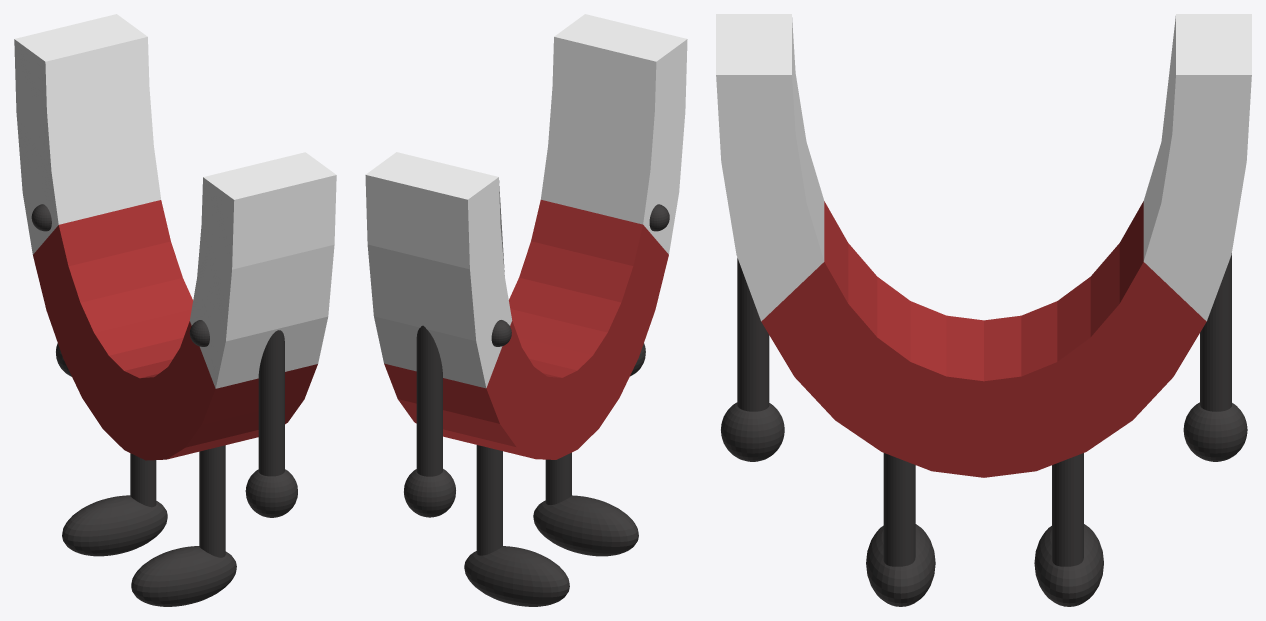
Rendered from Iman.fbx.
The picture shows the model from 3 angles, left to right: view 1: azimuth 30°, elevation 25°; view 2: azimuth 150°, elevation 25°; view 3: azimuth 270°, elevation 25°; orthographic projection. The views are drawn at different scales.
Parts seen in each view (by area): view 1: Cylinder; view 2: Cylinder; view 3: Cylinder.
Boxes of the visible parts, x1,y1,x2,y2 form: Cylinder: (14,14,336,606); Cylinder: (365,14,687,606); Cylinder: (716,14,1251,606).
Size of the model in its own units: 1.12 by 3.89 by 3.34.
Materials: 1 (1 with a texture image).
